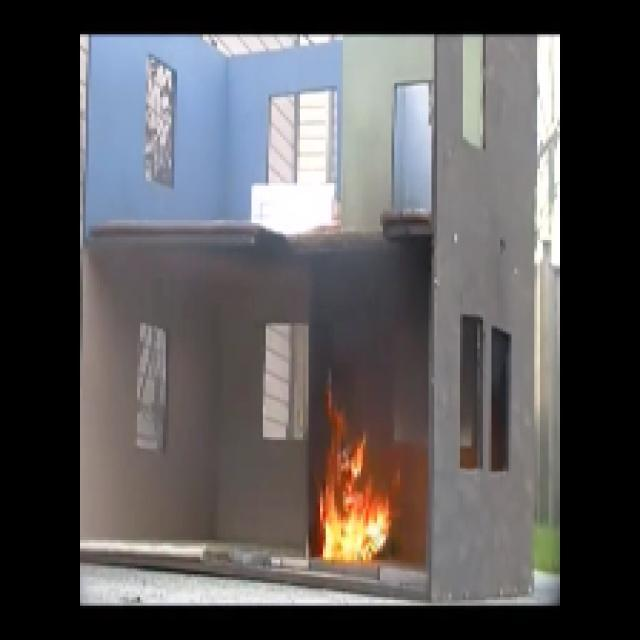Fire: (320, 429, 392, 572)
Smoke: (321, 254, 416, 370)
